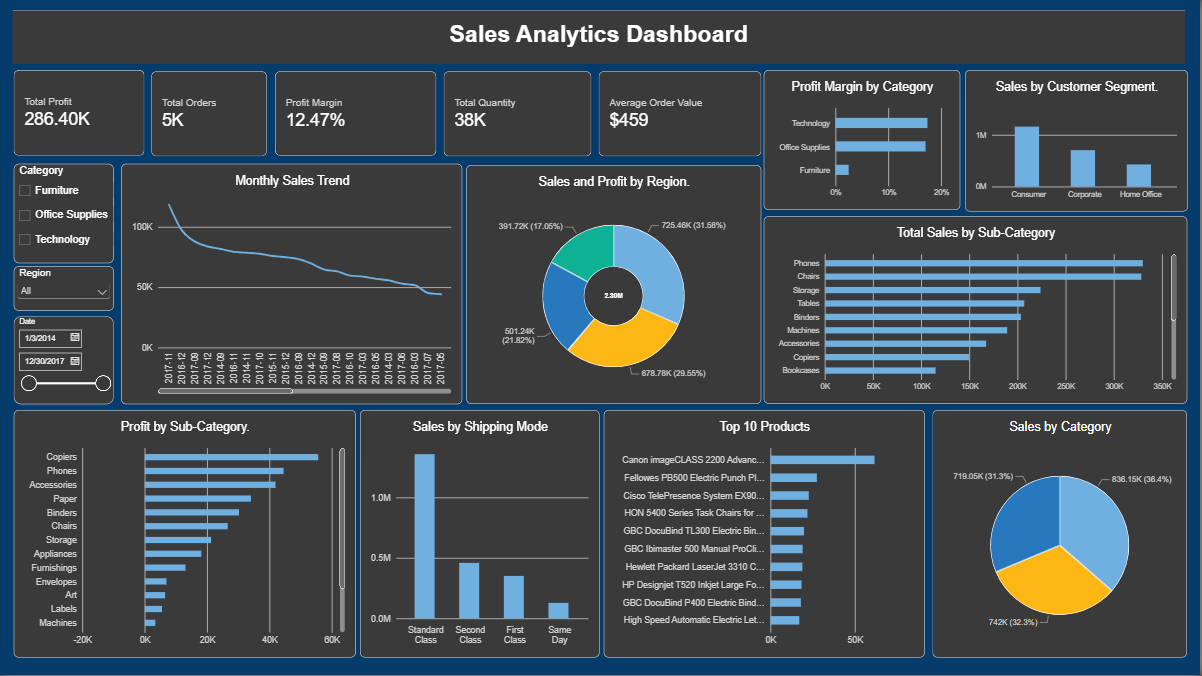

What the dashboard file says about the page in this screenshot:
{"tool":"powerbi","page":{"name":"kanga","canvas":[1920,1080],"ordinal":0},"visuals":[{"type":"cardVisual","fields":{"Data":["Superstore.Total Profit"]},"box":[22.5,112.8,209.1,137.3],"z":0},{"type":"cardVisual","fields":{"Data":["Superstore.Total Orders"]},"box":[241.5,114.9,185,136.2],"z":1000},{"type":"cardVisual","fields":{"Data":["Superstore.Profit Margin"]},"box":[439.4,114.5,258.3,135],"z":2000},{"type":"lineChart","title":"Monthly Sales Trend","fields":{"Category":["Calendar.Year Month"],"Y":["Superstore.Total Sales"]},"box":[194.1,261.5,545.3,384.9],"z":3000},{"type":"pieChart","title":"Sales by Category","fields":{"Category":["Superstore.Category"],"Y":["Superstore.Total Sales"]},"box":[1492.2,655.8,407.5,396.2],"z":4000},{"type":"donutChart","title":"Sales and Profit by Region.","fields":{"Category":["Superstore.Region"],"Y":["Superstore.Total Sales"]},"box":[746.6,263.6,471.7,382.5],"z":5000},{"type":"clusteredBarChart","title":"Top 10 Products","fields":{"Category":["Superstore.Product Name"],"Y":["Superstore.Total Sales"]},"box":[965.8,655.8,513.2,396.2],"z":6000},{"type":"slicer","fields":{"Values":["Superstore.Region"]},"box":[22.2,425.6,160,71.1],"z":7000},{"type":"slicer","fields":{"Values":["Superstore.Category"]},"box":[22.2,262.2,160,159],"z":8000},{"type":"slicer","fields":{"Values":["Calendar.Date"]},"box":[22.2,505.6,160,141.1],"z":9000},{"type":"clusteredBarChart","fields":{"Category":["Superstore.Sub-Category"],"Y":["Superstore.Total Sales"]},"box":[1222.4,346.1,677.5,300],"z":10000},{"type":"cardVisual","fields":{"Data":["Superstore.Total Quantity"]},"box":[709.4,114.5,236.7,136.7],"z":11000},{"type":"cardVisual","fields":{"Data":["Superstore.Average Order Value"]},"box":[957.8,114.5,260,136.7],"z":12000},{"type":"clusteredColumnChart","title":"Sales by Customer Segment.","fields":{"Category":["Superstore.Segment"],"Y":["Superstore.Total Sales"]},"box":[1543.1,112.4,356.6,226.4],"z":13000},{"type":"clusteredBarChart","title":"Profit by Sub-Category.","fields":{"Category":["Superstore.Sub-Category"],"Y":["Superstore.Total Profit"]},"box":[22.4,655.8,547.2,396.2],"z":14000},{"type":"clusteredColumnChart","title":"Sales by Shipping Mode","fields":{"Category":["Superstore.Ship Mode"],"Y":["Superstore.Total Sales"]},"box":[575.2,655.8,383,396.2],"z":15000},{"type":"clusteredBarChart","title":"Profit Margin by Category","fields":{"Category":["Superstore.Category"],"Y":["Superstore.Profit Margin"]},"box":[1222.4,112.8,314.2,224.2],"z":16000},{"type":"textbox","box":[20,16,1876,86],"z":17000}]}

Visuals, with their boxes in screenshot pixels (x1, y1, x2, y2), scaled from the page's 1920x1080 canvas onto the 1202x676 screenshot:
cardVisual - Superstore.Total Profit: [left=14, top=71, right=145, bottom=157]
cardVisual - Superstore.Total Orders: [left=151, top=72, right=267, bottom=157]
cardVisual - Superstore.Profit Margin: [left=275, top=72, right=437, bottom=156]
"Monthly Sales Trend" lineChart: [left=122, top=164, right=463, bottom=405]
"Sales by Category" pieChart: [left=934, top=410, right=1189, bottom=658]
"Sales and Profit by Region." donutChart: [left=467, top=165, right=763, bottom=404]
"Top 10 Products" clusteredBarChart: [left=605, top=410, right=926, bottom=658]
slicer - Superstore.Region: [left=14, top=266, right=114, bottom=311]
slicer - Superstore.Category: [left=14, top=164, right=114, bottom=264]
slicer - Calendar.Date: [left=14, top=316, right=114, bottom=405]
clusteredBarChart - Superstore.Sub-Category x Superstore.Total Sales: [left=765, top=217, right=1189, bottom=404]
cardVisual - Superstore.Total Quantity: [left=444, top=72, right=592, bottom=157]
cardVisual - Superstore.Average Order Value: [left=600, top=72, right=762, bottom=157]
"Sales by Customer Segment." clusteredColumnChart: [left=966, top=70, right=1189, bottom=212]
"Profit by Sub-Category." clusteredBarChart: [left=14, top=410, right=357, bottom=658]
"Sales by Shipping Mode" clusteredColumnChart: [left=360, top=410, right=600, bottom=658]
"Profit Margin by Category" clusteredBarChart: [left=765, top=71, right=962, bottom=211]
textbox: [left=13, top=10, right=1187, bottom=64]
